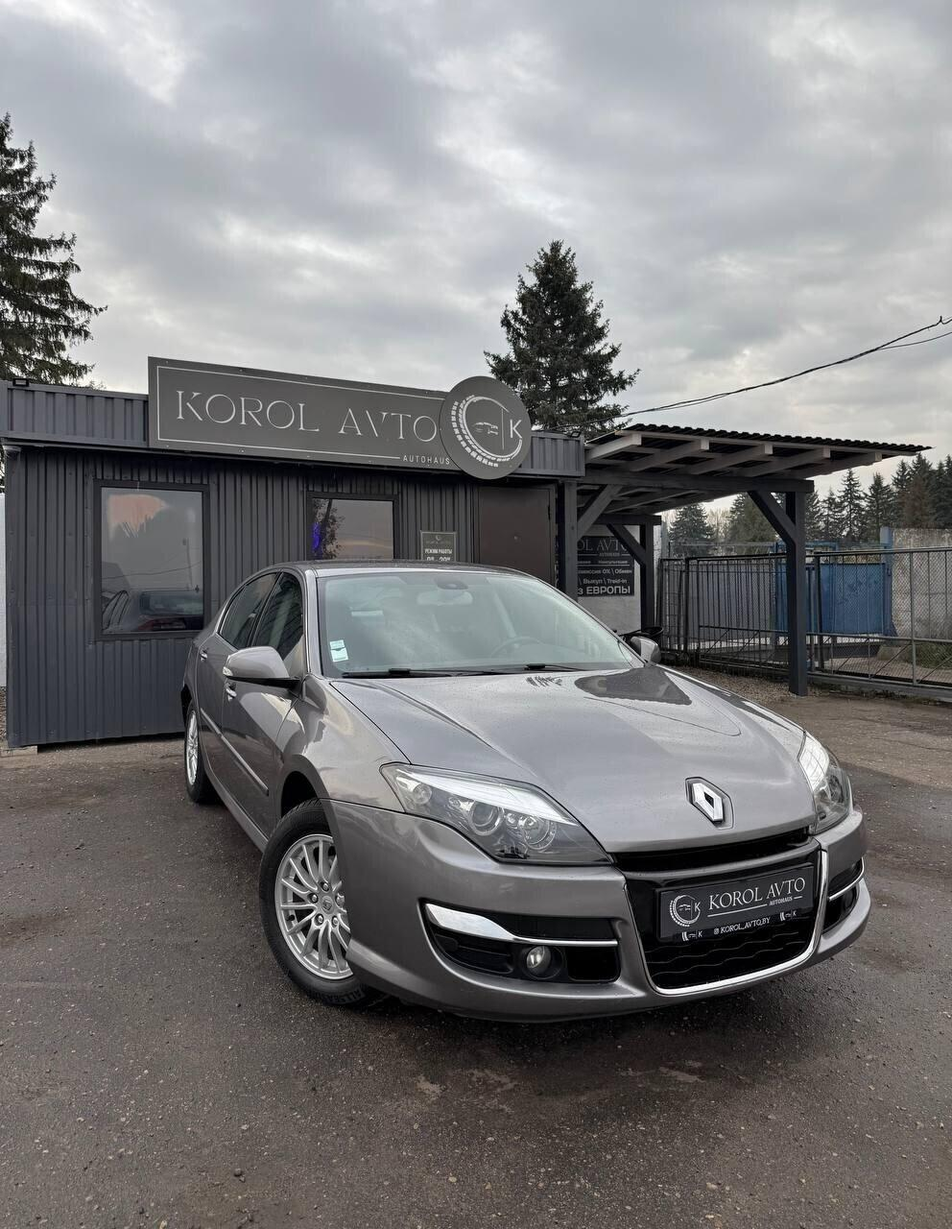Laguna_2010-2015: (176, 554, 869, 1031)
